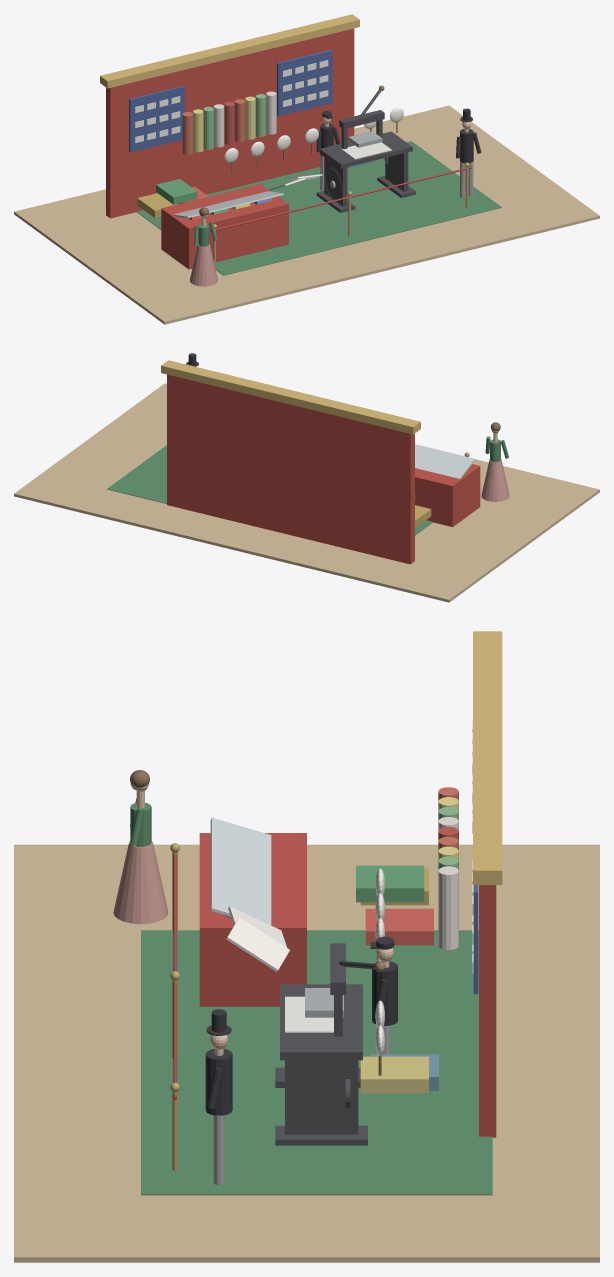
The model's file is scan-fig30-delarue-envelope-machine-muse.glb.
3 renders of one model, top to bottom at view 1: azimuth 30°, elevation 25°; view 2: azimuth 150°, elevation 25°; view 3: azimuth 270°, elevation 25°, orthographic. The views are drawn at different scales.
Parts seen in each view (by area): view 1: FloorBoards, StandWall, Carpet, Counter, StandCornice, DisplayBoard_0.95, DisplayBoard_-2.45, MachineBed, VisitorWoman_skirt, MachineLeg_0.75, CounterGlass, PaperStack_1 (+15 smaller); view 2: StandWall, FloorBoards, StandCornice, Counter, Carpet, CounterGlass, VisitorWoman_skirt; view 3: FloorBoards, Carpet, Counter, StandCornice, CounterGlass, MachineLeg_2.15, StandWall, MachineBed, VisitorWoman_skirt, PaperStack_4, PaperStack_1, PaperStack_2 (+9 smaller).
Boxes of the visible parts, x1,y1,x2,y2 form: FloorBoards: (14, 105, 599, 324); StandWall: (106, 28, 354, 218); Carpet: (137, 141, 501, 275); Counter: (161, 184, 288, 269); StandCornice: (100, 14, 359, 88); DisplayBoard_0.95: (277, 49, 332, 116); DisplayBoard_-2.45: (129, 86, 184, 152); MachineBed: (319, 131, 412, 168); VisitorWoman_skirt: (190, 243, 217, 286); MachineLeg_0.75: (324, 156, 347, 206); CounterGlass: (173, 191, 283, 217); PaperStack_1: (156, 179, 197, 204); StandWall: (167, 374, 414, 564); FloorBoards: (14, 383, 599, 602); StandCornice: (161, 360, 420, 434); Counter: (415, 464, 480, 526); Carpet: (107, 445, 432, 535); CounterGlass: (415, 444, 475, 478); VisitorWoman_skirt: (481, 459, 509, 501); FloorBoards: (14, 844, 599, 1262); Carpet: (141, 930, 492, 1195); Counter: (199, 833, 306, 1006); StandCornice: (473, 631, 502, 884); CounterGlass: (210, 817, 271, 925); MachineLeg_2.15: (285, 1060, 358, 1134); StandWall: (479, 885, 496, 1137); MachineBed: (280, 984, 362, 1060); VisitorWoman_skirt: (113, 841, 168, 924); PaperStack_4: (360, 1056, 428, 1093); PaperStack_1: (356, 865, 424, 902); PaperStack_2: (365, 908, 433, 945).
Size of the model in its own units: 10 by 3.12 by 6.
